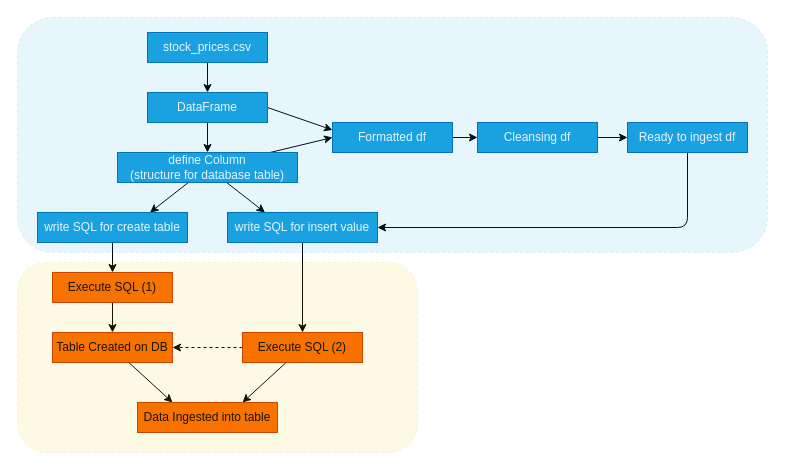
The diagram is 785 pixels wide and 470 high, and some of its shapes have lost their labels. The shapes that lost their labels are listed below. From the top down, each one's centre as x and y in pixels, then its label:
At [392,134]: "Python".
At [217,357]: "PostgreSQL".
